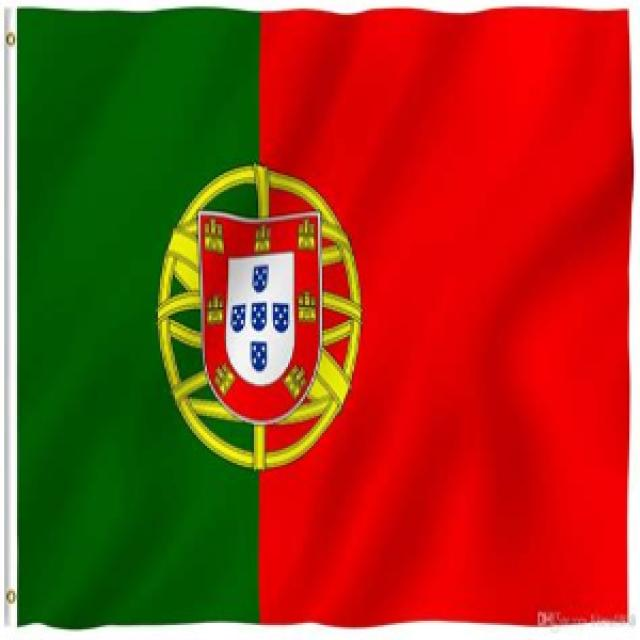portugal: (20, 7, 627, 618)
